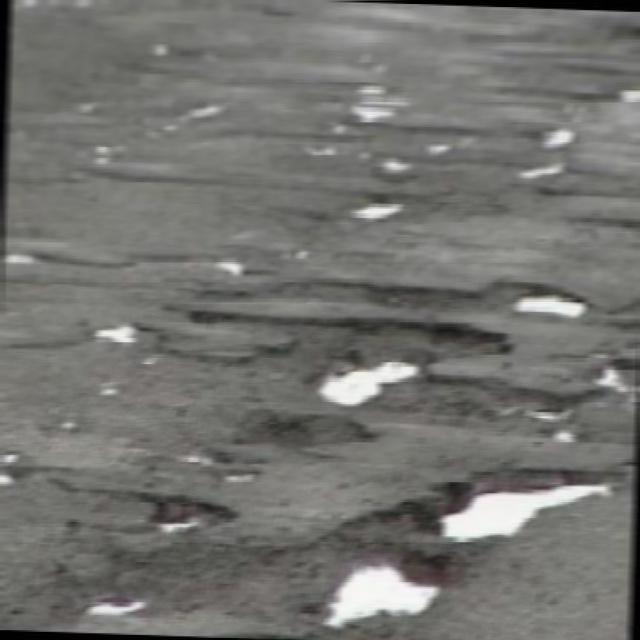Pothole: (282, 319, 527, 422), (263, 541, 472, 640), (266, 264, 594, 324), (389, 471, 627, 550), (44, 554, 194, 640), (506, 376, 606, 447), (113, 492, 242, 547), (166, 437, 268, 494), (349, 76, 409, 132), (154, 101, 237, 140), (327, 194, 423, 223), (529, 114, 582, 157), (589, 359, 640, 399), (509, 156, 577, 186), (86, 317, 145, 350), (216, 240, 248, 283), (86, 140, 121, 171), (0, 245, 46, 267), (70, 93, 104, 119), (146, 38, 177, 65), (0, 444, 19, 487), (371, 157, 416, 175), (15, 0, 97, 9), (616, 84, 639, 110), (424, 138, 451, 160), (303, 146, 341, 157)
